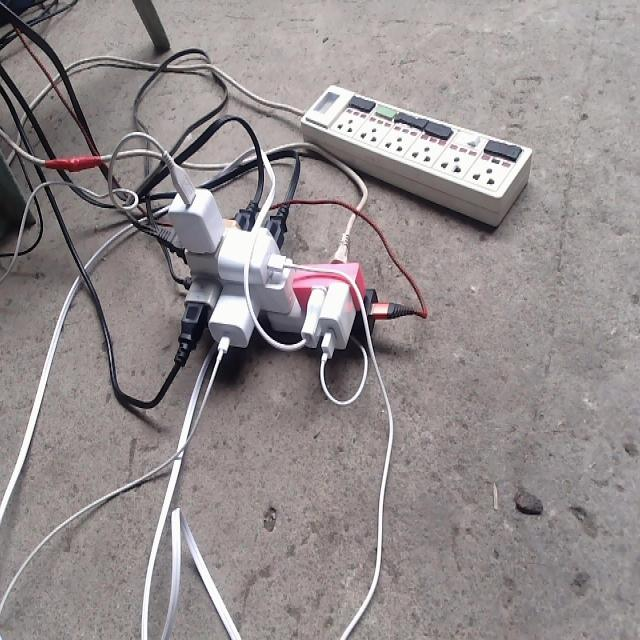-: (118, 128, 434, 424)
